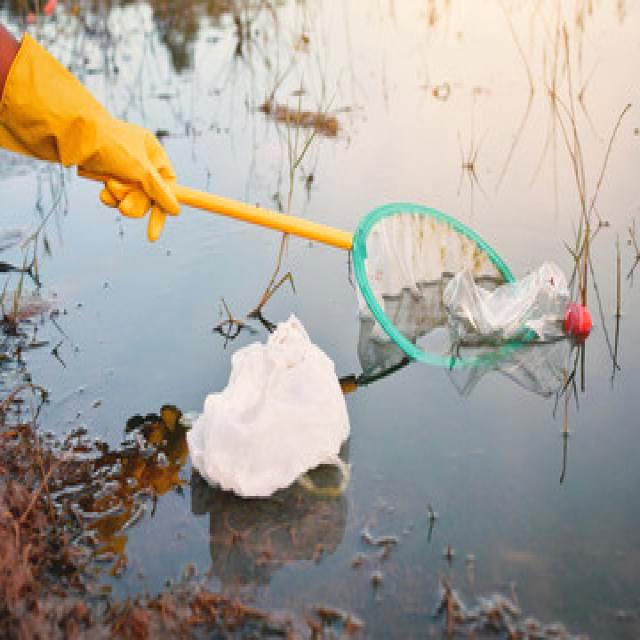Plastic: (434, 249, 602, 367)
Trash: (180, 306, 350, 502), (341, 202, 527, 373)
